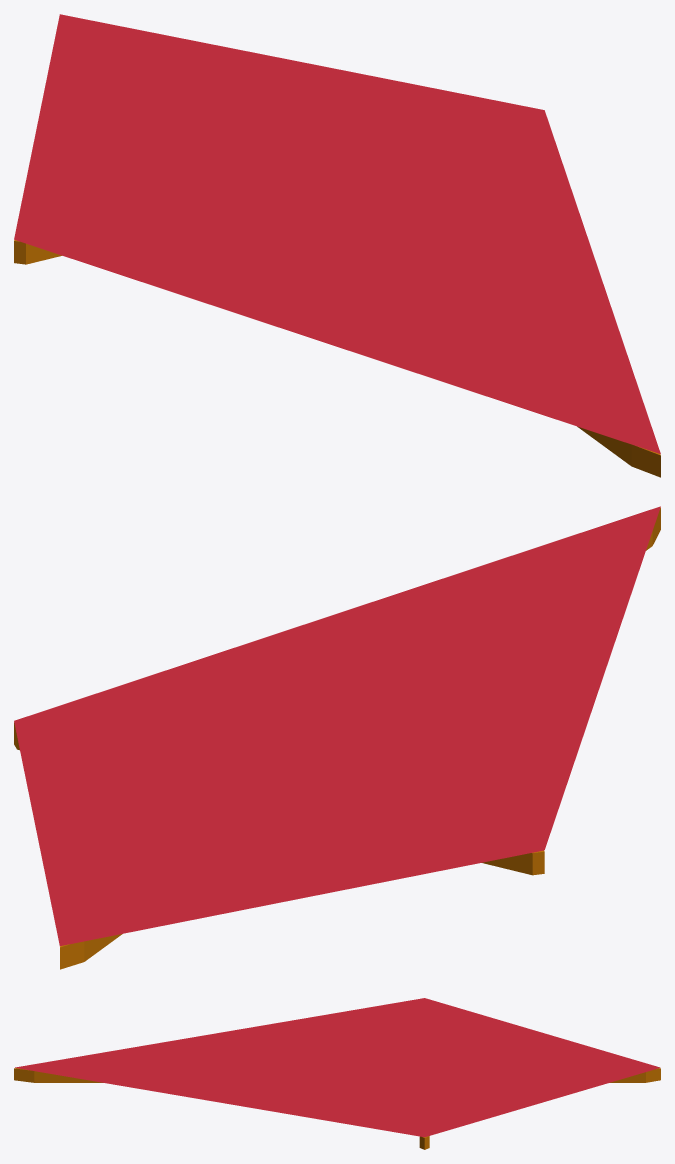
The model's file is KiteWithoutTail (1).fbx.
The picture shows the model from 3 angles, top to bottom: view 1: azimuth 30°, elevation 25°; view 2: azimuth 150°, elevation 25°; view 3: azimuth 270°, elevation 25°; orthographic projection. The views are drawn at different scales.
Visible parts, largest first — view 1: Plane, Cube; view 2: Plane, Cube; view 3: Plane, Cube.
Boxes of the visible parts, bbox=[...] form: Plane: bbox=[14, 14, 660, 453]; Cube: bbox=[14, 240, 660, 477]; Plane: bbox=[14, 506, 660, 945]; Cube: bbox=[14, 507, 660, 969]; Plane: bbox=[15, 998, 660, 1137]; Cube: bbox=[14, 1068, 660, 1149].
Bounding box in the file's own units: 332 × 14.03 × 651.
